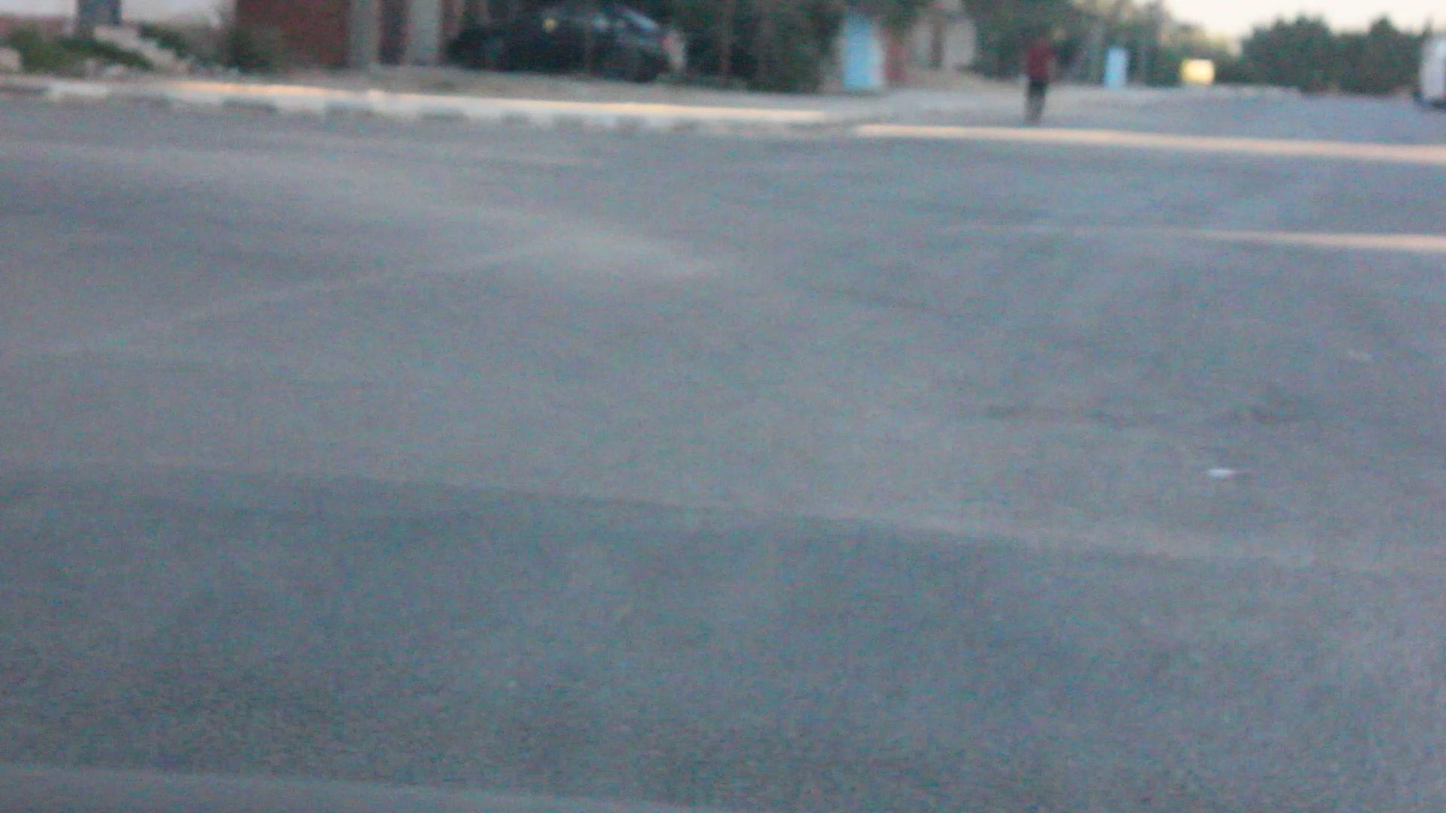Bump: (0, 453, 1445, 812)
